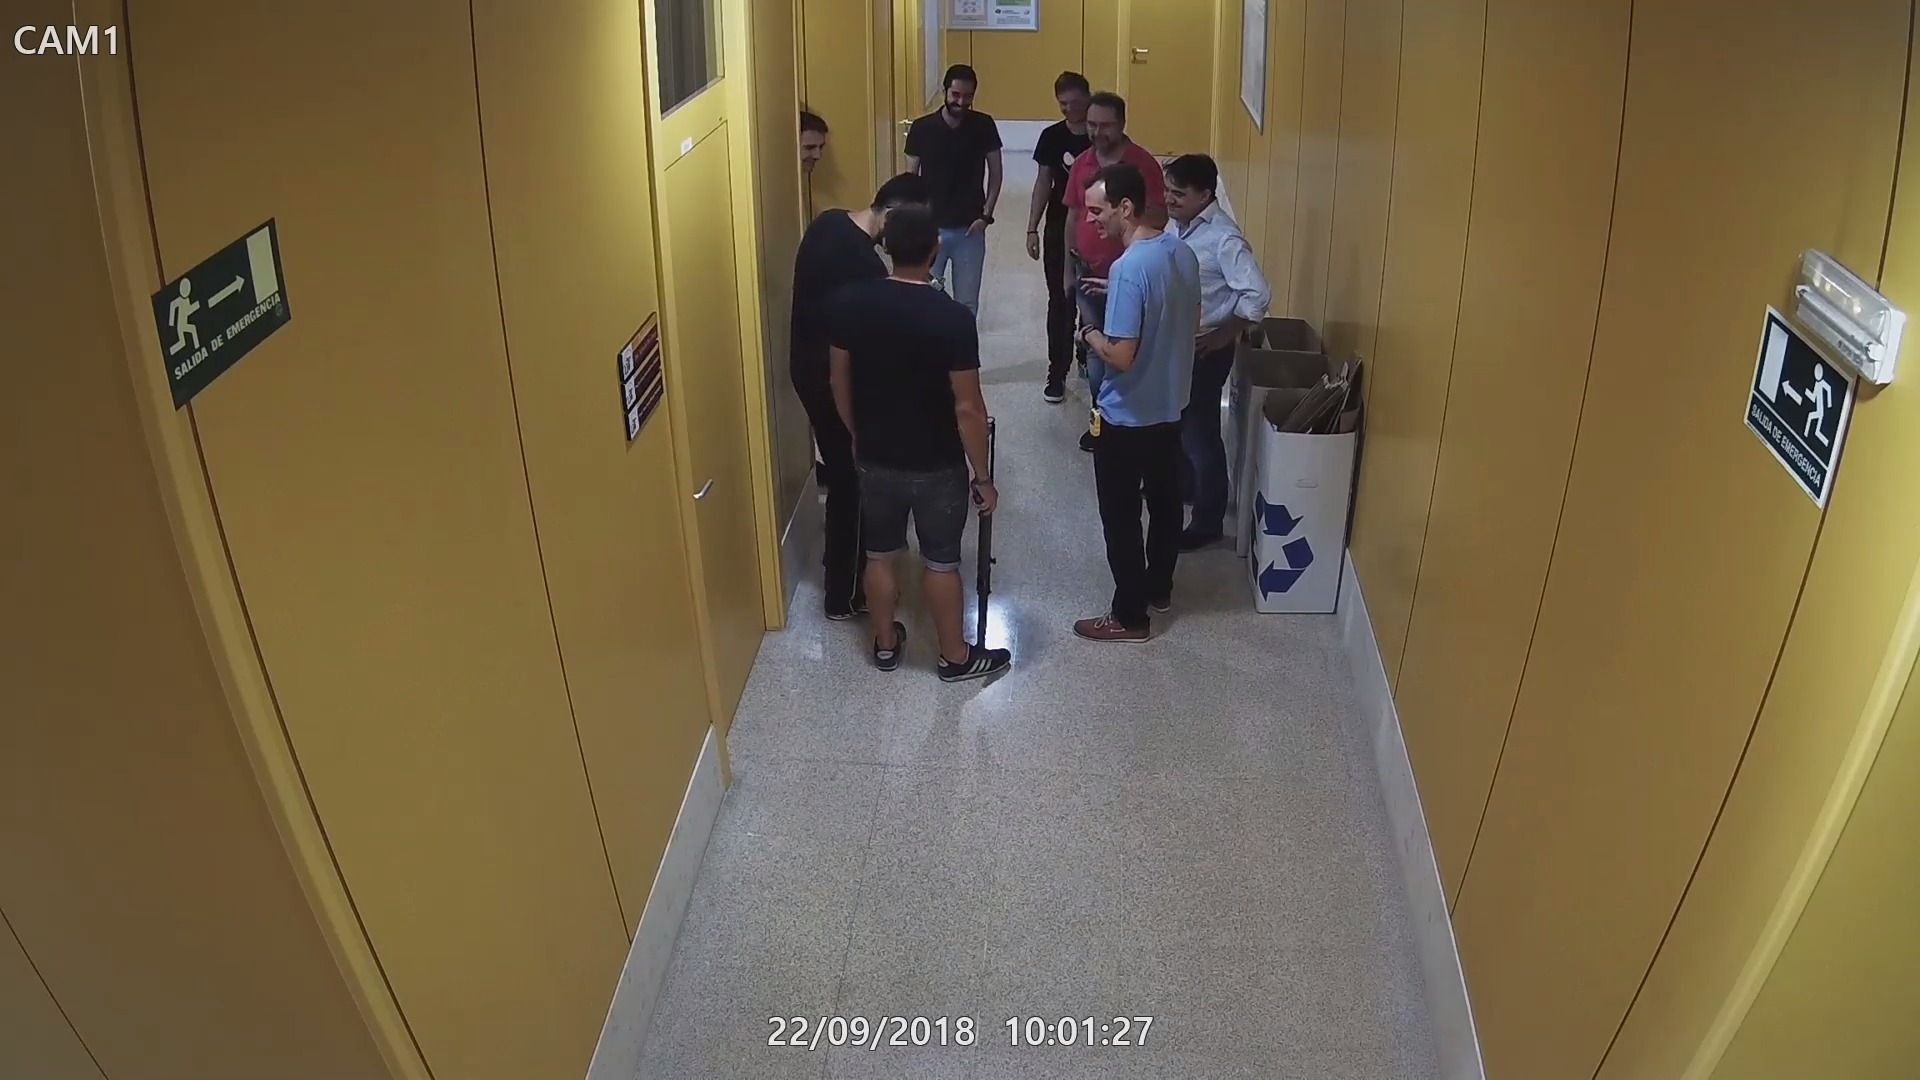Handgun: (1067, 248, 1093, 287)
Short_rifle: (972, 411, 1000, 655), (1060, 261, 1092, 423)
